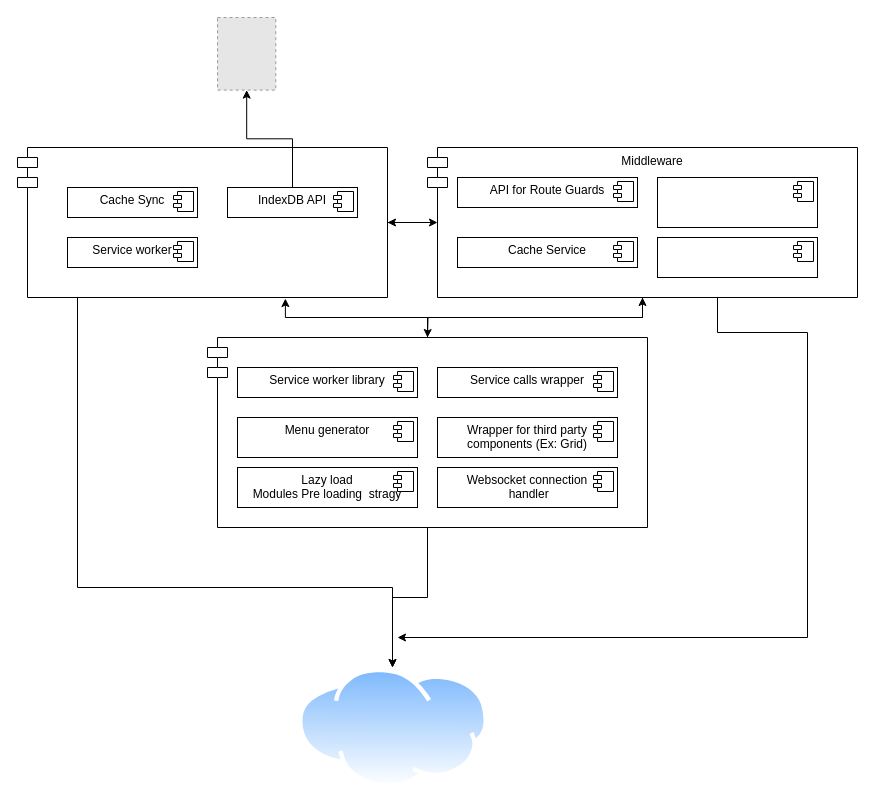
Some shapes in this 875 by 805 pixel diagram are drawn without their labels. Grey dashed boxes stand in for pictures. Here are the shapes that lost their labels. From the top down, the box of each, then its label:
(16, 146, 388, 298): ClientSide Cache Module
(656, 176, 818, 228): Client side global error handler
(656, 236, 818, 278): Network Error handler
(206, 336, 648, 528): Core Module
